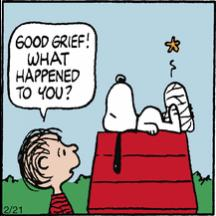snoopy: (100, 74, 194, 176)
